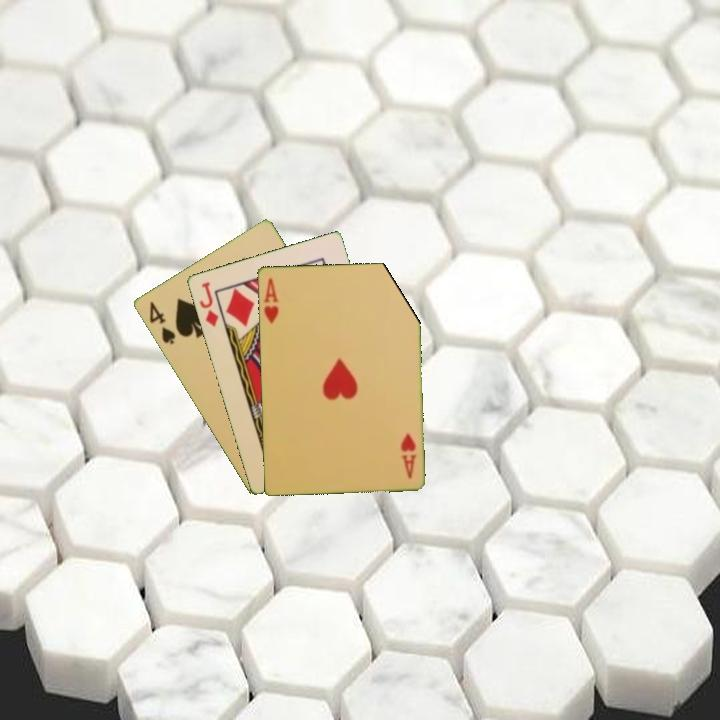4s: (145, 298, 178, 347)
Ah: (397, 430, 419, 481), (260, 274, 281, 327)
Jd: (196, 278, 222, 329)
